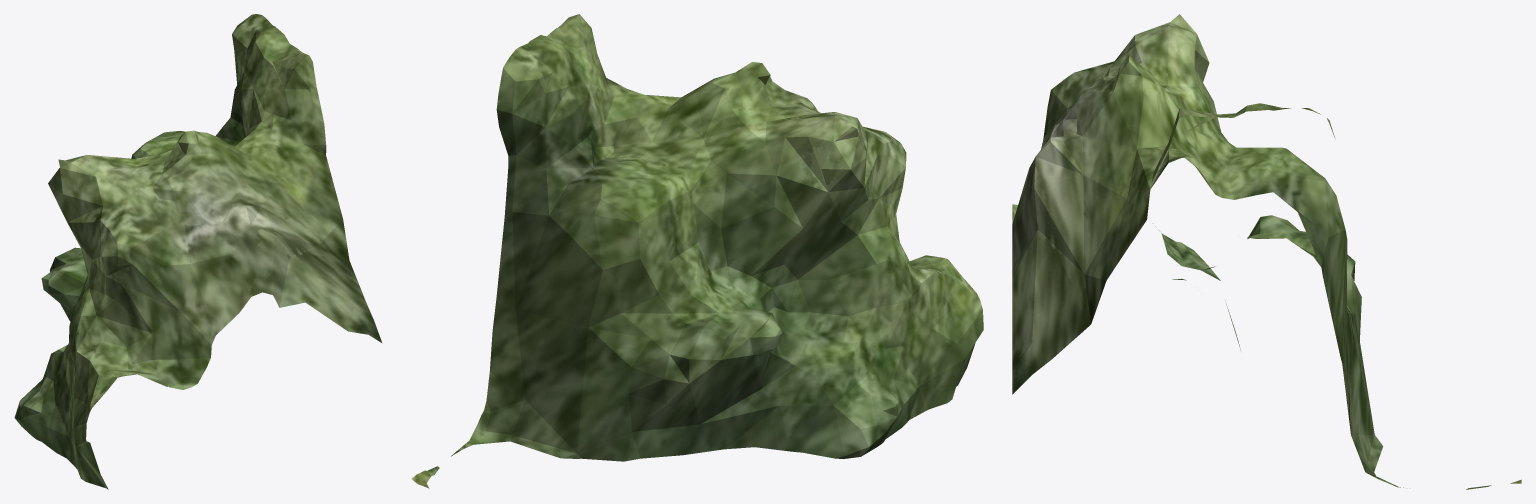
3 views of the same model, side by side, from view 1: azimuth 30°, elevation 25°; view 2: azimuth 150°, elevation 25°; view 3: azimuth 270°, elevation 25° (orthographic). The views are drawn at different scales.
Size of the model in its own units: 2.37 by 2.44 by 2.95.
3 materials, 3 textured.
